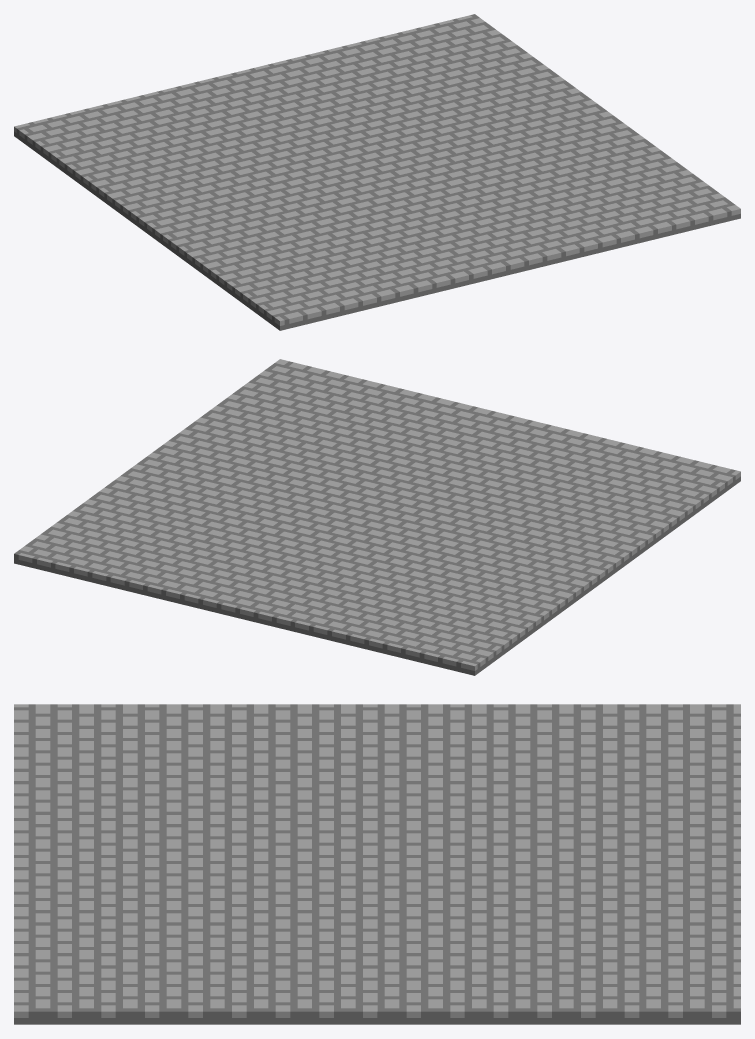
The model's file is floor.obj.
3 views of the same model, one above another, from view 1: azimuth 30°, elevation 25°; view 2: azimuth 150°, elevation 25°; view 3: azimuth 270°, elevation 25° (orthographic). The views are drawn at different scales.
Bounding box in the file's own units: 10 × 0.2 × 10.
1 material, 1 textured.
